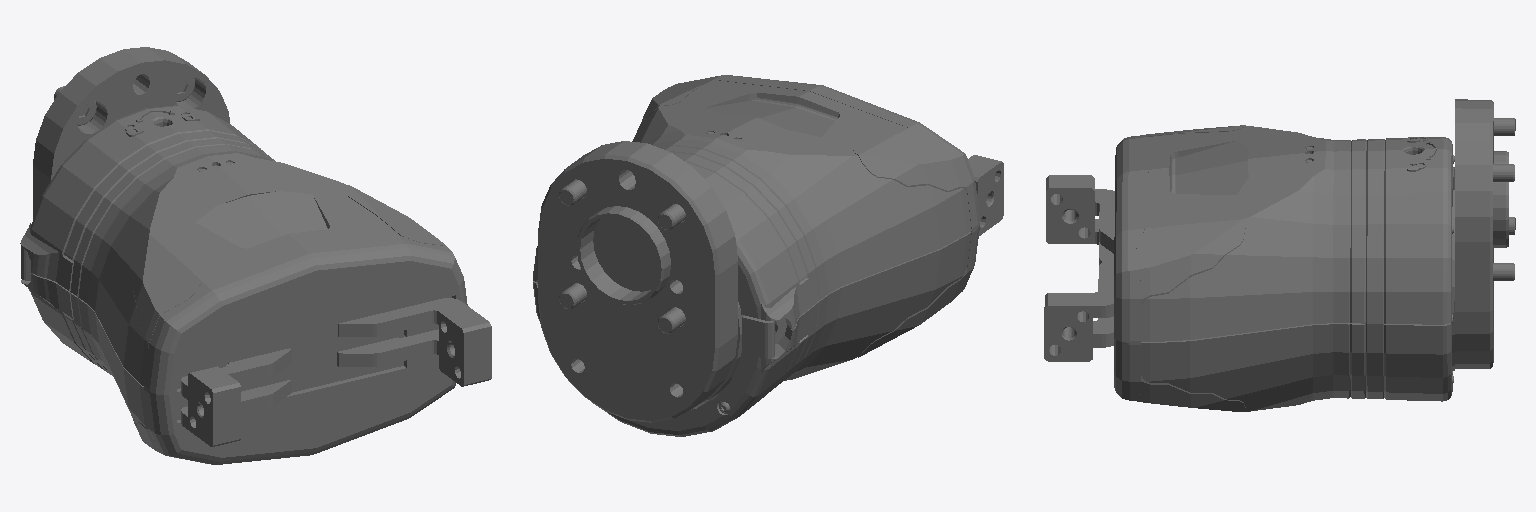
URDF robot description (tm900):
<?xml version="1.0" ?>
<!-- =================================================================================== -->
<!-- |    This document was autogenerated by xacro from [local-path]/ros2_humble/src/tm_description/urdf/tm900_robot.urdf.xacro | -->
<!-- |    EDITING THIS FILE BY HAND IS NOT RECOMMENDED                                 | -->
<!-- =================================================================================== -->
<robot name="tm900">
  <gazebo>
    <plugin filename="libgazebo_ros_control.so" name="gazebo_ros_control">
      <!--robotNamespace>/</robotNamespace-->
      <!--robotSimType>gazebo_ros_control/DefaultRobotHWSim</robotSimType-->
    </plugin>
    <!--
    <plugin name="gazebo_ros_power_monitor_controller" filename="libgazebo_ros_power_monitor.so">
      <alwaysOn>true</alwaysOn>
      <updateRate>1.0</updateRate>
      <timeout>5</timeout>
      <powerStateTopic>power_state</powerStateTopic>
      <powerStateRate>10.0</powerStateRate>
      <fullChargeCapacity>87.78</fullChargeCapacity>     
      <dischargeRate>-474</dischargeRate>
      <chargeRate>525</chargeRate>
      <dischargeVoltage>15.52</dischargeVoltage>
      <chargeVoltage>16.41</chargeVoltage>
    </plugin>
    -->
  </gazebo>
  <gazebo reference="base_link">
    <selfCollide>true</selfCollide>
  </gazebo>
  <gazebo reference="shoulder_1_link">
    <selfCollide>true</selfCollide>
  </gazebo>
  <gazebo reference="arm_1_link">
    <selfCollide>true</selfCollide>
  </gazebo>
  <gazebo reference="arm_2_link">
    <selfCollide>true</selfCollide>
  </gazebo>
  <gazebo reference="wrist_1_link">
    <selfCollide>true</selfCollide>
  </gazebo>
  <gazebo reference="wrist_2_link">
    <selfCollide>true</selfCollide>
  </gazebo>
  <gazebo reference="wrist_3_link">
    <selfCollide>true</selfCollide>
  </gazebo>
  <!-- Nella riga superiore dentro value stava scritto {-tm_d4 - elbow_offset - shoulder_offset} 
ma causava un errore perchè tm_d4 is not defined, quindi lo sostituisco con il calcolo a mano
IL PROBLEMA ERA DOVUTO DAL FATTO CHE DAVANTI A "property" DOVEVA ESSERCI "xacro:"
 -->
  <transmission name="shoulder_1_trans">
    <type>transmission_interface/SimpleTransmission</type>
    <joint name="shoulder_1_joint">
      <hardwareInterface>PositionJointInterface</hardwareInterface>
    </joint>
    <actuator name="shoulder_1_motor">
      <mechanicalReduction>1</mechanicalReduction>
    </actuator>
  </transmission>
  <transmission name="shoulder_2_trans">
    <type>transmission_interface/SimpleTransmission</type>
    <joint name="shoulder_2_joint">
      <hardwareInterface>PositionJointInterface</hardwareInterface>
    </joint>
    <actuator name="shoulder_2_motor">
      <mechanicalReduction>1</mechanicalReduction>
    </actuator>
  </transmission>
  <transmission name="elbow_1_trans">
    <type>transmission_interface/SimpleTransmission</type>
    <joint name="elbow_1_joint">
      <hardwareInterface>PositionJointInterface</hardwareInterface>
    </joint>
    <actuator name="elbow_1_motor">
      <mechanicalReduction>1</mechanicalReduction>
    </actuator>
  </transmission>
  <transmission name="wrist_1_trans">
    <type>transmission_interface/SimpleTransmission</type>
    <joint name="wrist_1_joint">
      <hardwareInterface>PositionJointInterface</hardwareInterface>
    </joint>
    <actuator name="wrist_1_motor">
      <mechanicalReduction>1</mechanicalReduction>
    </actuator>
  </transmission>
  <transmission name="wrist_2_trans">
    <type>transmission_interface/SimpleTransmission</type>
    <joint name="wrist_2_joint">
      <hardwareInterface>PositionJointInterface</hardwareInterface>
    </joint>
    <actuator name="wrist_2_motor">
      <mechanicalReduction>1</mechanicalReduction>
    </actuator>
  </transmission>
  <transmission name="wrist_3_trans">
    <type>transmission_interface/SimpleTransmission</type>
    <joint name="wrist_3_joint">
      <hardwareInterface>PositionJointInterface</hardwareInterface>
    </joint>
    <actuator name="wrist_3_motor">
      <mechanicalReduction>1</mechanicalReduction>
    </actuator>
  </transmission>
  <link name="base_link">
    <visual>
      <geometry>
        <mesh filename="package://tm_description/meshes/tm900/visual/Base.STL"/>
      </geometry>
      <material name="Grey">
        <color rgba="0.5 0.5 0.5 1.0"/>
      </material>
    </visual>
    <collision>
      <geometry>
        <mesh filename="package://tm_description/meshes/tm900/collision/base.STL"/>
      </geometry>
    </collision>
    <inertial>
      <mass value="1.0"/>
      <insert_block name="origin"/>
      <inertia ixx="0.00110833289" ixy="0.0" ixz="0.0" iyy="0.00110833289" iyz="0.0" izz="0.0018"/>
    </inertial>
  </link>
  <link name="shoulder_1_link">
    <visual>
      <geometry>
        <mesh filename="package://tm_description/meshes/tm900/visual/Shoulder1.STL"/>
      </geometry>
      <material name="DarkOlive">
        <color rgba="0.3 0.3 0.25 1.0"/>
      </material>
    </visual>
    <collision>
      <geometry>
        <mesh filename="package://tm_description/meshes/tm900/collision/shoulder_1.STL"/>
      </geometry>
    </collision>
    <inertial>
      <mass value="4.5"/>
      <insert_block name="origin"/>
      <inertia ixx="0.012487495005" ixy="0.0" ixz="0.0" iyy="0.012487495005" iyz="0.0" izz="0.0081"/>
    </inertial>
  </link>
  <joint name="shoulder_1_joint" type="revolute">
    <parent link="base_link"/>
    <child link="shoulder_1_link"/>
    <origin rpy="-1.570796325 0.0 0.0" xyz="0.0 0.0 0.1451"/>
    <axis xyz="0 -1 0"/>
    <limit effort="150.0" lower="-6.2831853" upper="6.2831853" velocity="3.15"/>
    <dynamics damping="0.0" friction="0.0"/>
  </joint>
  <link name="arm_1_link">
    <visual>
      <geometry>
        <mesh filename="package://tm_description/meshes/tm900/visual/Arm1.STL"/>
      </geometry>
      <material name="DarkOlive">
        <color rgba="0.3 0.3 0.25 1.0"/>
      </material>
    </visual>
    <collision>
      <geometry>
        <mesh filename="package://tm_description/meshes/tm900/collision/arm_1.STL"/>
      </geometry>
    </collision>
    <inertial>
      <mass value="11.0"/>
      <insert_block name="origin"/>
      <inertia ixx="0.29736654772" ixy="0.0" ixz="0.0" iyy="0.29736654772" iyz="0.0" izz="0.019799999999999998"/>
    </inertial>
  </link>
  <joint name="shoulder_2_joint" type="revolute">
    <parent link="shoulder_1_link"/>
    <child link="arm_1_link"/>
    <origin rpy="0.0 0.0 -1.570796325" xyz="0.0 0.0 -0.146"/>
    <axis xyz="0 0 1"/>
    <limit effort="150.0" lower="-4.7123889750000005" upper="4.7123889750000005" velocity="3.15"/>
    <dynamics damping="0.0" friction="0.0"/>
  </joint>
  <link name="arm_2_link">
    <visual>
      <geometry>
        <mesh filename="package://tm_description/meshes/tm900/visual/Arm2.STL"/>
      </geometry>
      <material name="DarkOlive">
        <color rgba="0.3 0.3 0.25 1.0"/>
      </material>
    </visual>
    <collision>
      <geometry>
        <mesh filename="package://tm_description/meshes/tm900/collision/arm_2.STL"/>
      </geometry>
    </collision>
    <inertial>
      <mass value="2.5"/>
      <insert_block name="origin"/>
      <inertia ixx="0.054333311599999996" ixy="0.0" ixz="0.0" iyy="0.054333311599999996" iyz="0.0" izz="0.0045"/>
    </inertial>
  </link>
  <joint name="elbow_1_joint" type="revolute">
    <parent link="arm_1_link"/>
    <child link="arm_2_link"/>
    <origin rpy="0.0 0.0 0.0" xyz="0.429 0.0 0.1298"/>
    <axis xyz="0 0 1"/>
    <limit effort="150.0" lower="-4.7123889750000005" upper="4.7123889750000005" velocity="3.15"/>
    <dynamics damping="0.0" friction="0.0"/>
  </joint>
  <link name="wrist_1_link">
    <visual>
      <geometry>
        <mesh filename="package://tm_description/meshes/tm900/visual/Wrist1.STL"/>
      </geometry>
      <material name="DarkOlive">
        <color rgba="0.3 0.3 0.25 1.0"/>
      </material>
    </visual>
    <collision>
      <geometry>
        <mesh filename="package://tm_description/meshes/tm900/collision/wrist_1.STL"/>
      </geometry>
    </collision>
    <inertial>
      <mass value="1.45"/>
      <insert_block name="origin"/>
      <inertia ixx="0.13223994710399997" ixy="0.0" ixz="0.0" iyy="0.13223994710399997" iyz="0.0" izz="0.261"/>
    </inertial>
  </link>
  <joint name="wrist_1_joint" type="revolute">
    <parent link="arm_2_link"/>
    <child link="wrist_1_link"/>
    <origin rpy="1.570796325 0.0 1.570796325" xyz="0.4115 0.0 -0.10600000000000001"/>
    <axis xyz="0 1 0"/>
    <limit effort="28.0" lower="-6.2831853" upper="6.2831853" velocity="3.2"/>
    <dynamics damping="0.0" friction="0.0"/>
  </joint>
  <link name="wrist_2_link">
    <visual>
      <geometry>
        <mesh filename="package://tm_description/meshes/tm900/visual/Wrist2.STL"/>
      </geometry>
      <material name="DarkOlive">
        <color rgba="0.3 0.3 0.25 1.0"/>
      </material>
    </visual>
    <collision>
      <geometry>
        <mesh filename="package://tm_description/meshes/tm900/collision/wrist_2.STL"/>
      </geometry>
    </collision>
    <inertial>
      <mass value="1.45"/>
      <insert_block name="origin"/>
      <inertia ixx="0.13223994710399997" ixy="0.0" ixz="0.0" iyy="0.13223994710399997" iyz="0.0" izz="0.261"/>
    </inertial>
  </link>
  <joint name="wrist_2_joint" type="revolute">
    <parent link="wrist_1_link"/>
    <child link="wrist_2_link"/>
    <origin rpy="1.570796325 0.0 0.0" xyz="0.0 0.0 0.106"/>
    <axis xyz="0 1 0"/>
    <limit effort="28.0" lower="-6.2831853" upper="6.2831853" velocity="3.2"/>
    <dynamics damping="0.0" friction="0.0"/>
  </joint>
  <link name="wrist_3_link">
    <visual>
      <geometry>
        <mesh filename="package://tm_description/meshes/tm900/visual/Wrist3.STL"/>
      </geometry>
      <origin rpy="0 0 0" xyz="0 0 0.015"/>
      <material name="Grey">
        <color rgba="0.5 0.5 0.5 1.0"/>
      </material>
    </visual>
    <collision>
      <geometry>
        <mesh filename="package://tm_description/meshes/tm900/collision/wrist_3.STL"/>
      </geometry>
    </collision>
    <inertial>
      <mass value="0.4"/>
      <insert_block name="origin"/>
      <inertia ixx="0.036479985407999994" ixy="0.0" ixz="0.0" iyy="0.036479985407999994" iyz="0.0" izz="0.072"/>
    </inertial>
  </link>
  <joint name="wrist_3_joint" type="revolute">
    <parent link="wrist_2_link"/>
    <child link="wrist_3_link"/>
    <origin rpy="0.0 0.0 0.0" xyz="0.0 0.0 0.0565"/>
    <axis xyz="0 0 1"/>
    <limit effort="28.0" lower="-6.2831853" upper="6.2831853" velocity="3.2"/>
    <dynamics damping="0.0" friction="0.0"/>
  </joint>
  <link name="tip_link">
    <visual>
      <geometry>
        <mesh filename="package://tm_description/meshes/tm900/visual/tip_link_1.stl"/>
      </geometry>
      <origin rpy="0 0 0" xyz="0 0 0"/>
      <material name="Grey">
        <color rgba="0.5 0.5 0.5 1.0"/>
      </material>
    </visual>
    <collision>
      <geometry>
        <mesh filename="package://tm_description/meshes/tm900/collision/tip_link_1.stl"/>
      </geometry>
      <origin rpy="0 0 0" xyz="0 0 0.025"/>
    </collision>
  </link>
  <joint name="tip_fixed_joint" type="revolute">
    <parent link="wrist_3_link"/>
    <child link="tip_link"/>
    <origin rpy="0.0 0.0 0.0" xyz="0.0 0.0 0.0579"/>
    <axis xyz="0 0 1" />
    <limit lower="0.0" upper="0.04" effort="10.0" velocity="0.1"/>
  </joint>
  <!-- ROS base to TM 'base_link' Coordinates transform -->
  <link name="base"/>
  <joint name="base-base_link" type="fixed">
    <origin rpy="0 0 0" xyz="0 0 0"/>
    <parent link="base"/>
    <child link="base_link"/>
  </joint>
  <!-- Frame coincident with all-zeros TCP on TM controller -->
  <link name="tool0"/>
  <joint name="tip_link-tool0" type="fixed">
    <parent link="tip_link"/>
    <child link="tool0"/>
    <origin rpy="0 0 0" xyz="0 0 0"/>
  </joint>
  <link name="world"/>
  <joint name="world_joint" type="fixed">
    <parent link="world"/>
    <child link="base"/>
    <origin rpy="0 0 0" xyz="0 0 0"/>
  </joint>
</robot>

--- Render facts (derived) ---
The picture shows the robot from 3 angles, left to right: view 1: azimuth 30°, elevation 25°; view 2: azimuth 150°, elevation 25°; view 3: azimuth 270°, elevation 25°; orthographic projection.
Model tm900 with 11 links and 10 joints (7 revolute, 3 fixed), rooted at world, posed all joints at 0.
Visible links, largest first — view 1: tip_link; view 2: tip_link; view 3: tip_link.
Link boxes in pixels (x1,y1,x2,y2): tip_link: (20,47,491,464); tip_link: (533,75,1003,436); tip_link: (1044,99,1515,411).
Size in the robot's own frame: 0.1151 by 0.1543 by 0.1021 metres.
1 mesh visuals loaded from 8 distinct referenced files (1 binary STL); not drawn: 7 (reference not matched to a file when rendering).